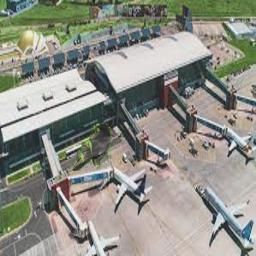Crow: (72, 123, 112, 171)
